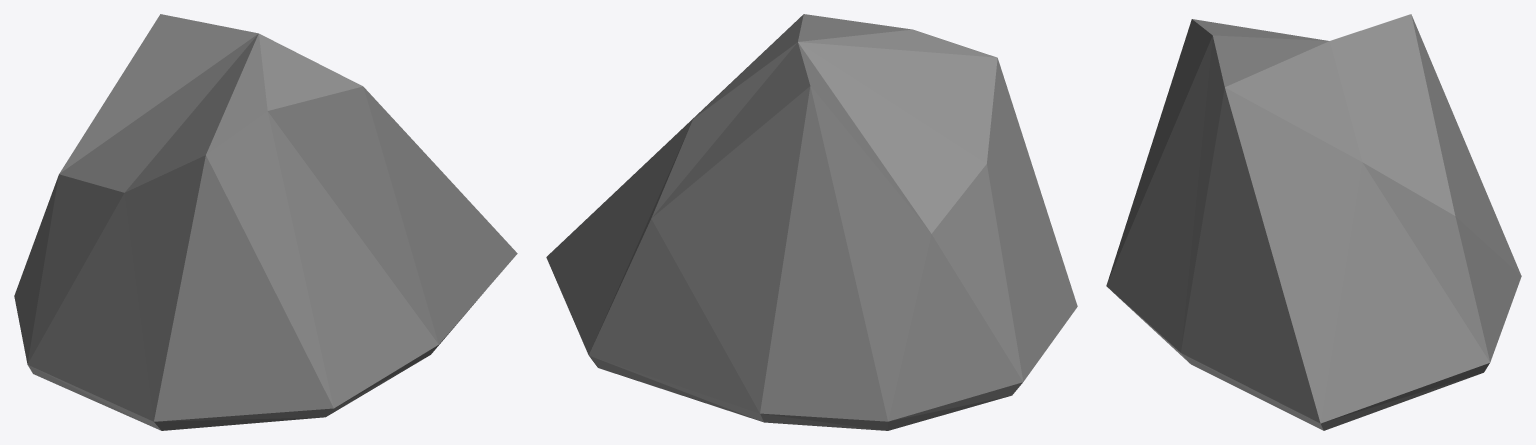
Rendered from rock_02_b.fbx.
3 views of the same model, side by side, from view 1: azimuth 30°, elevation 25°; view 2: azimuth 150°, elevation 25°; view 3: azimuth 270°, elevation 25° (orthographic). The views are drawn at different scales.
Parts seen in each view (by area): view 1: Rock_02_b; view 2: Rock_02_b; view 3: Rock_02_b.
Part boxes in pixels (box(x1,y1,x2,y2)): Rock_02_b: box(14, 14, 517, 430); Rock_02_b: box(546, 14, 1077, 430); Rock_02_b: box(1106, 14, 1521, 430).
Bounding box in the file's own units: 7 × 5.5 × 4.33.
